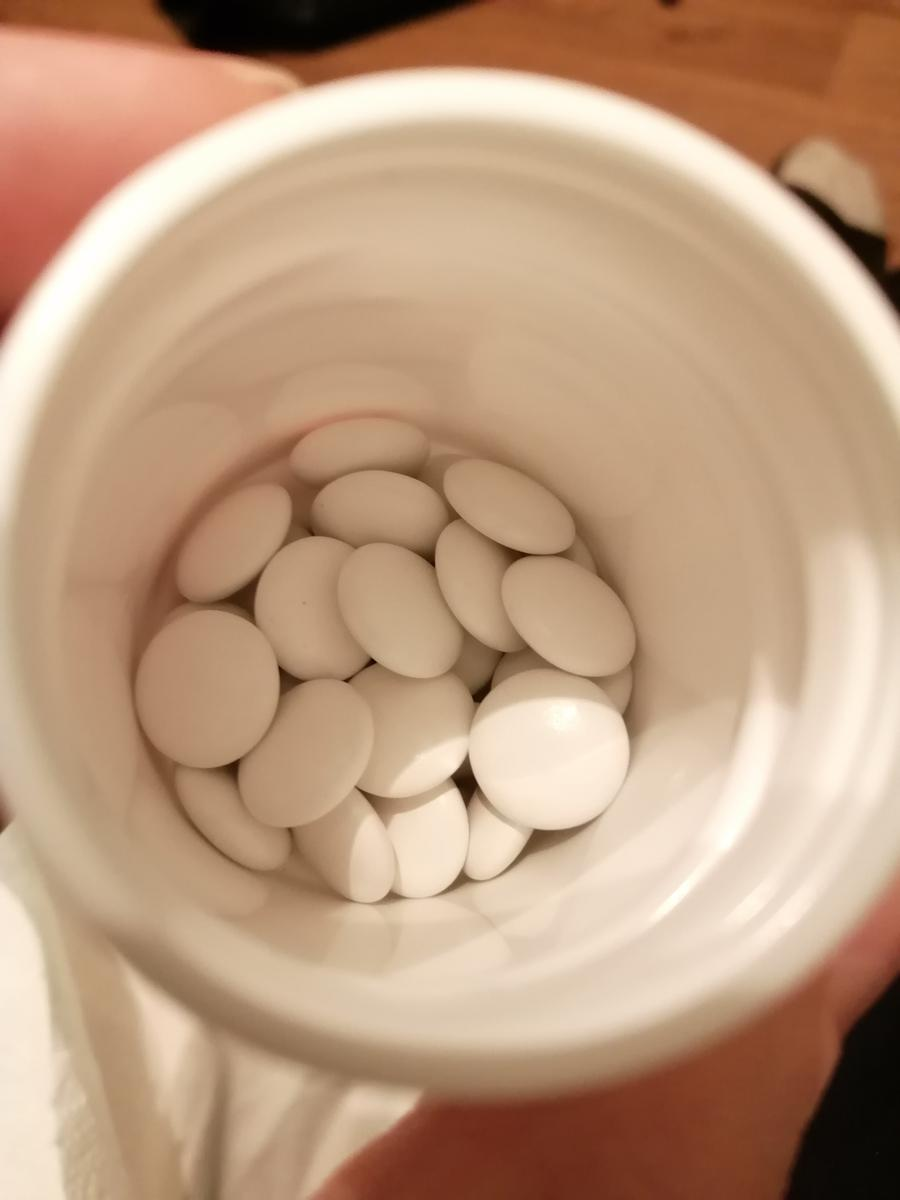tablet: (467, 669, 641, 831), (136, 607, 282, 769), (239, 680, 375, 828), (337, 542, 467, 685), (253, 538, 381, 678), (505, 554, 641, 683), (348, 773, 470, 902), (349, 668, 479, 788), (170, 483, 299, 600), (272, 787, 398, 906), (170, 763, 296, 875), (446, 454, 574, 561), (439, 523, 546, 649), (306, 466, 448, 559), (287, 416, 431, 490)
